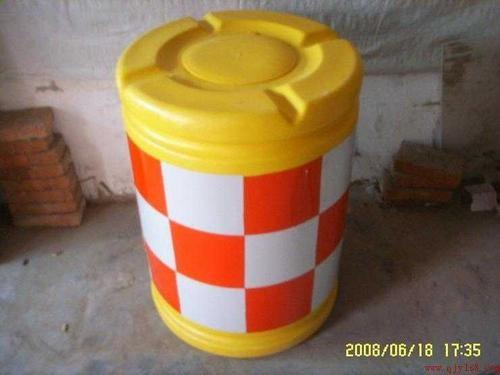cone_barrel: (118, 11, 356, 366)
